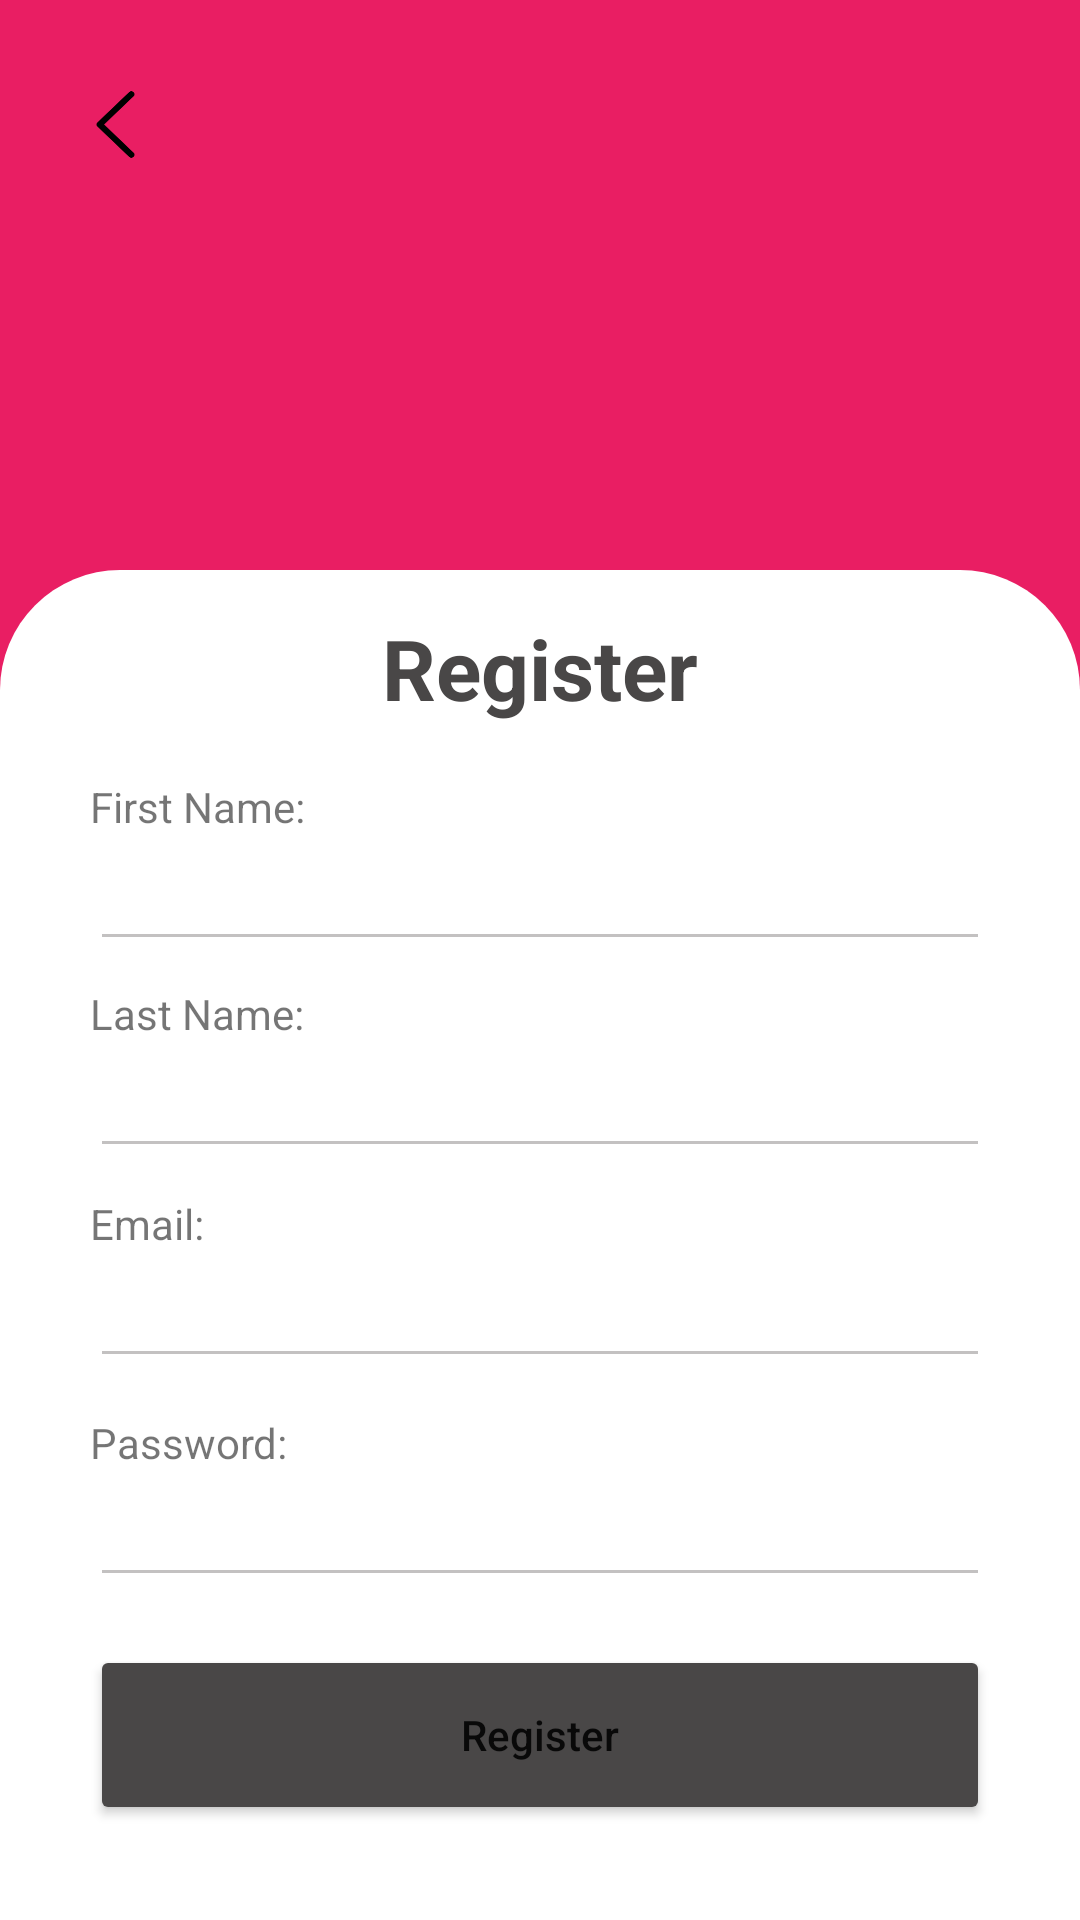

Locate icon controls on the screen. Image size 1080w x 1920h, boxes as bbox=(x1, y1, x2, y2).
back: bbox=(96, 91, 135, 158)
